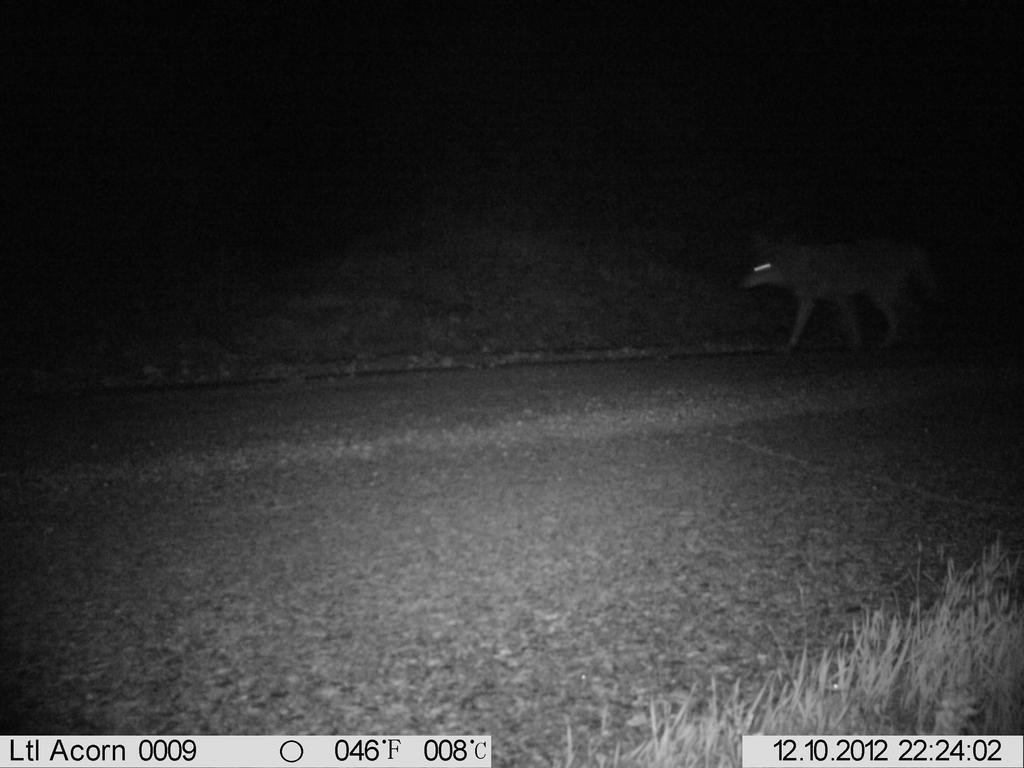coyote: (733, 218, 951, 367)
